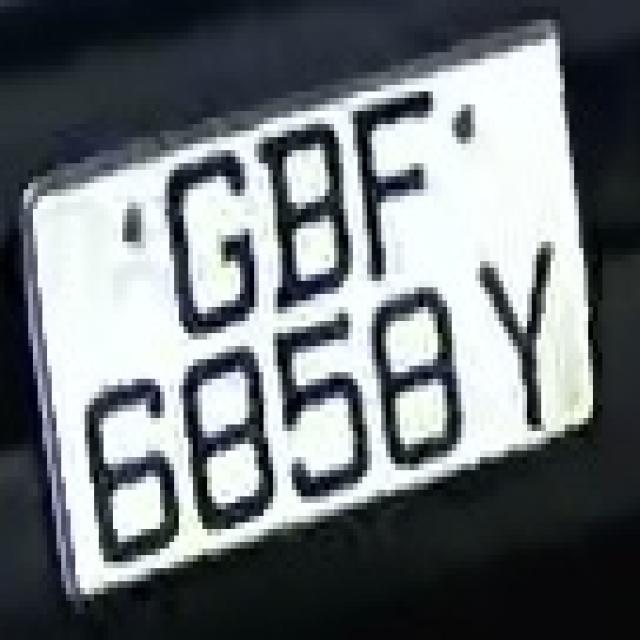5: (259, 294, 376, 522)
6: (75, 353, 174, 607)
8: (170, 333, 282, 542), (362, 268, 466, 477)
B: (258, 118, 358, 320)
F: (353, 78, 447, 274)
G: (150, 124, 264, 346)
Y: (471, 228, 578, 451)
